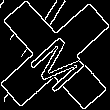M_NE: (21, 21, 89, 89)
